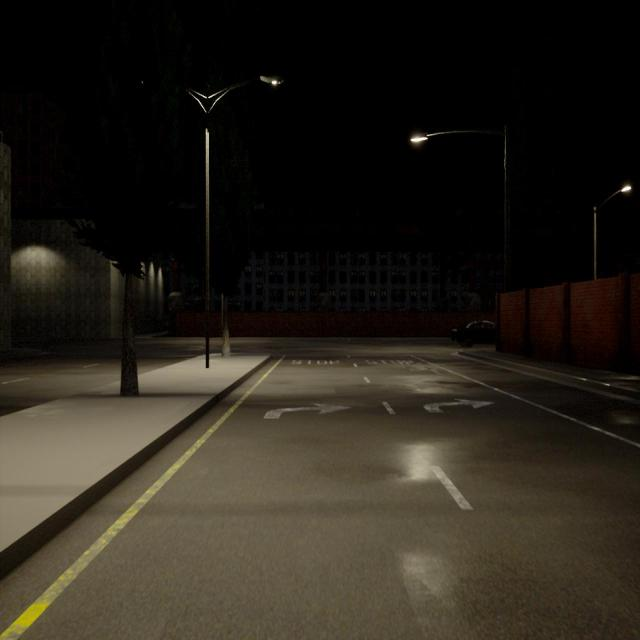Vehicle: (452, 321, 495, 346)
